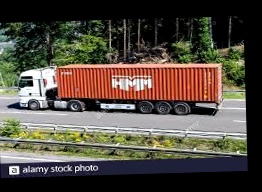truck: (17, 60, 223, 119)
